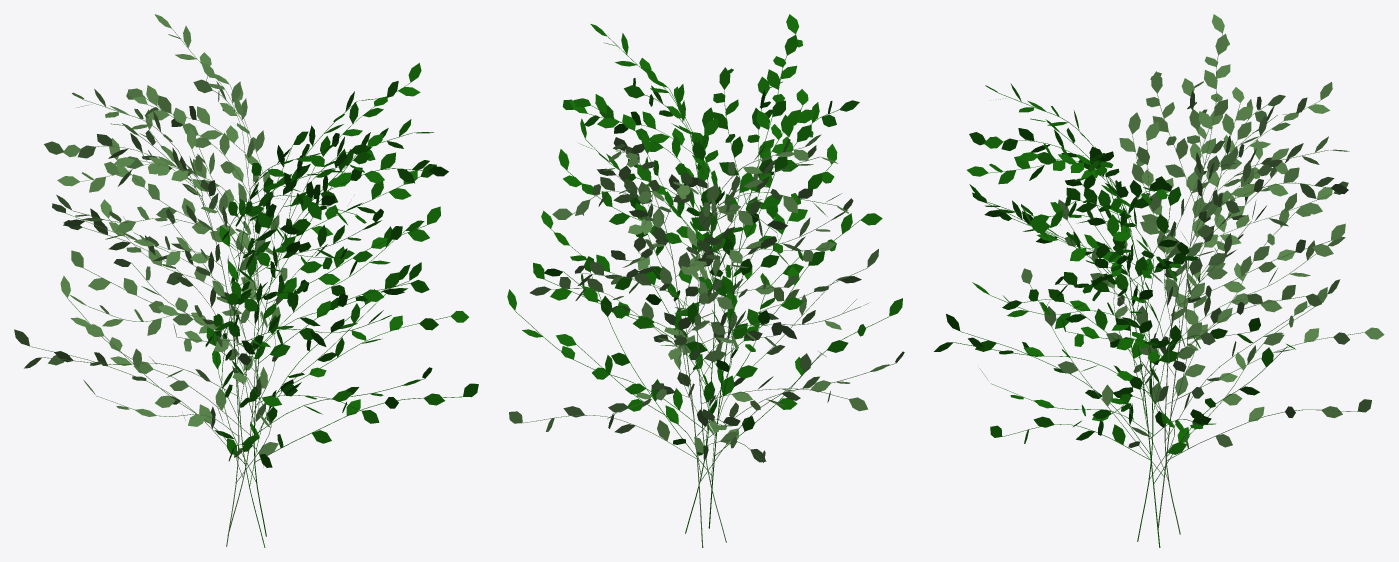
Rendered from _bush1.fbx.
The picture shows the model from 3 angles, left to right: view 1: azimuth 30°, elevation 25°; view 2: azimuth 150°, elevation 25°; view 3: azimuth 270°, elevation 25°; orthographic projection. The views are drawn at different scales.
Visible parts, largest first — view 1: Bush1; view 2: Bush1; view 3: Bush1.
Part boxes in pixels (bbox=[...]): Bush1: bbox=[14, 14, 478, 547]; Bush1: bbox=[507, 14, 904, 547]; Bush1: bbox=[934, 14, 1384, 547].
Bounding box in the file's own units: 285 × 326 × 293.
